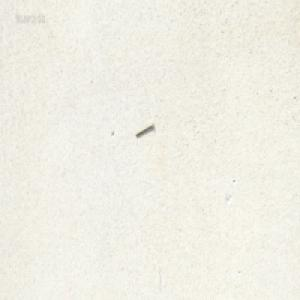Bolt: (134, 122, 153, 138)
